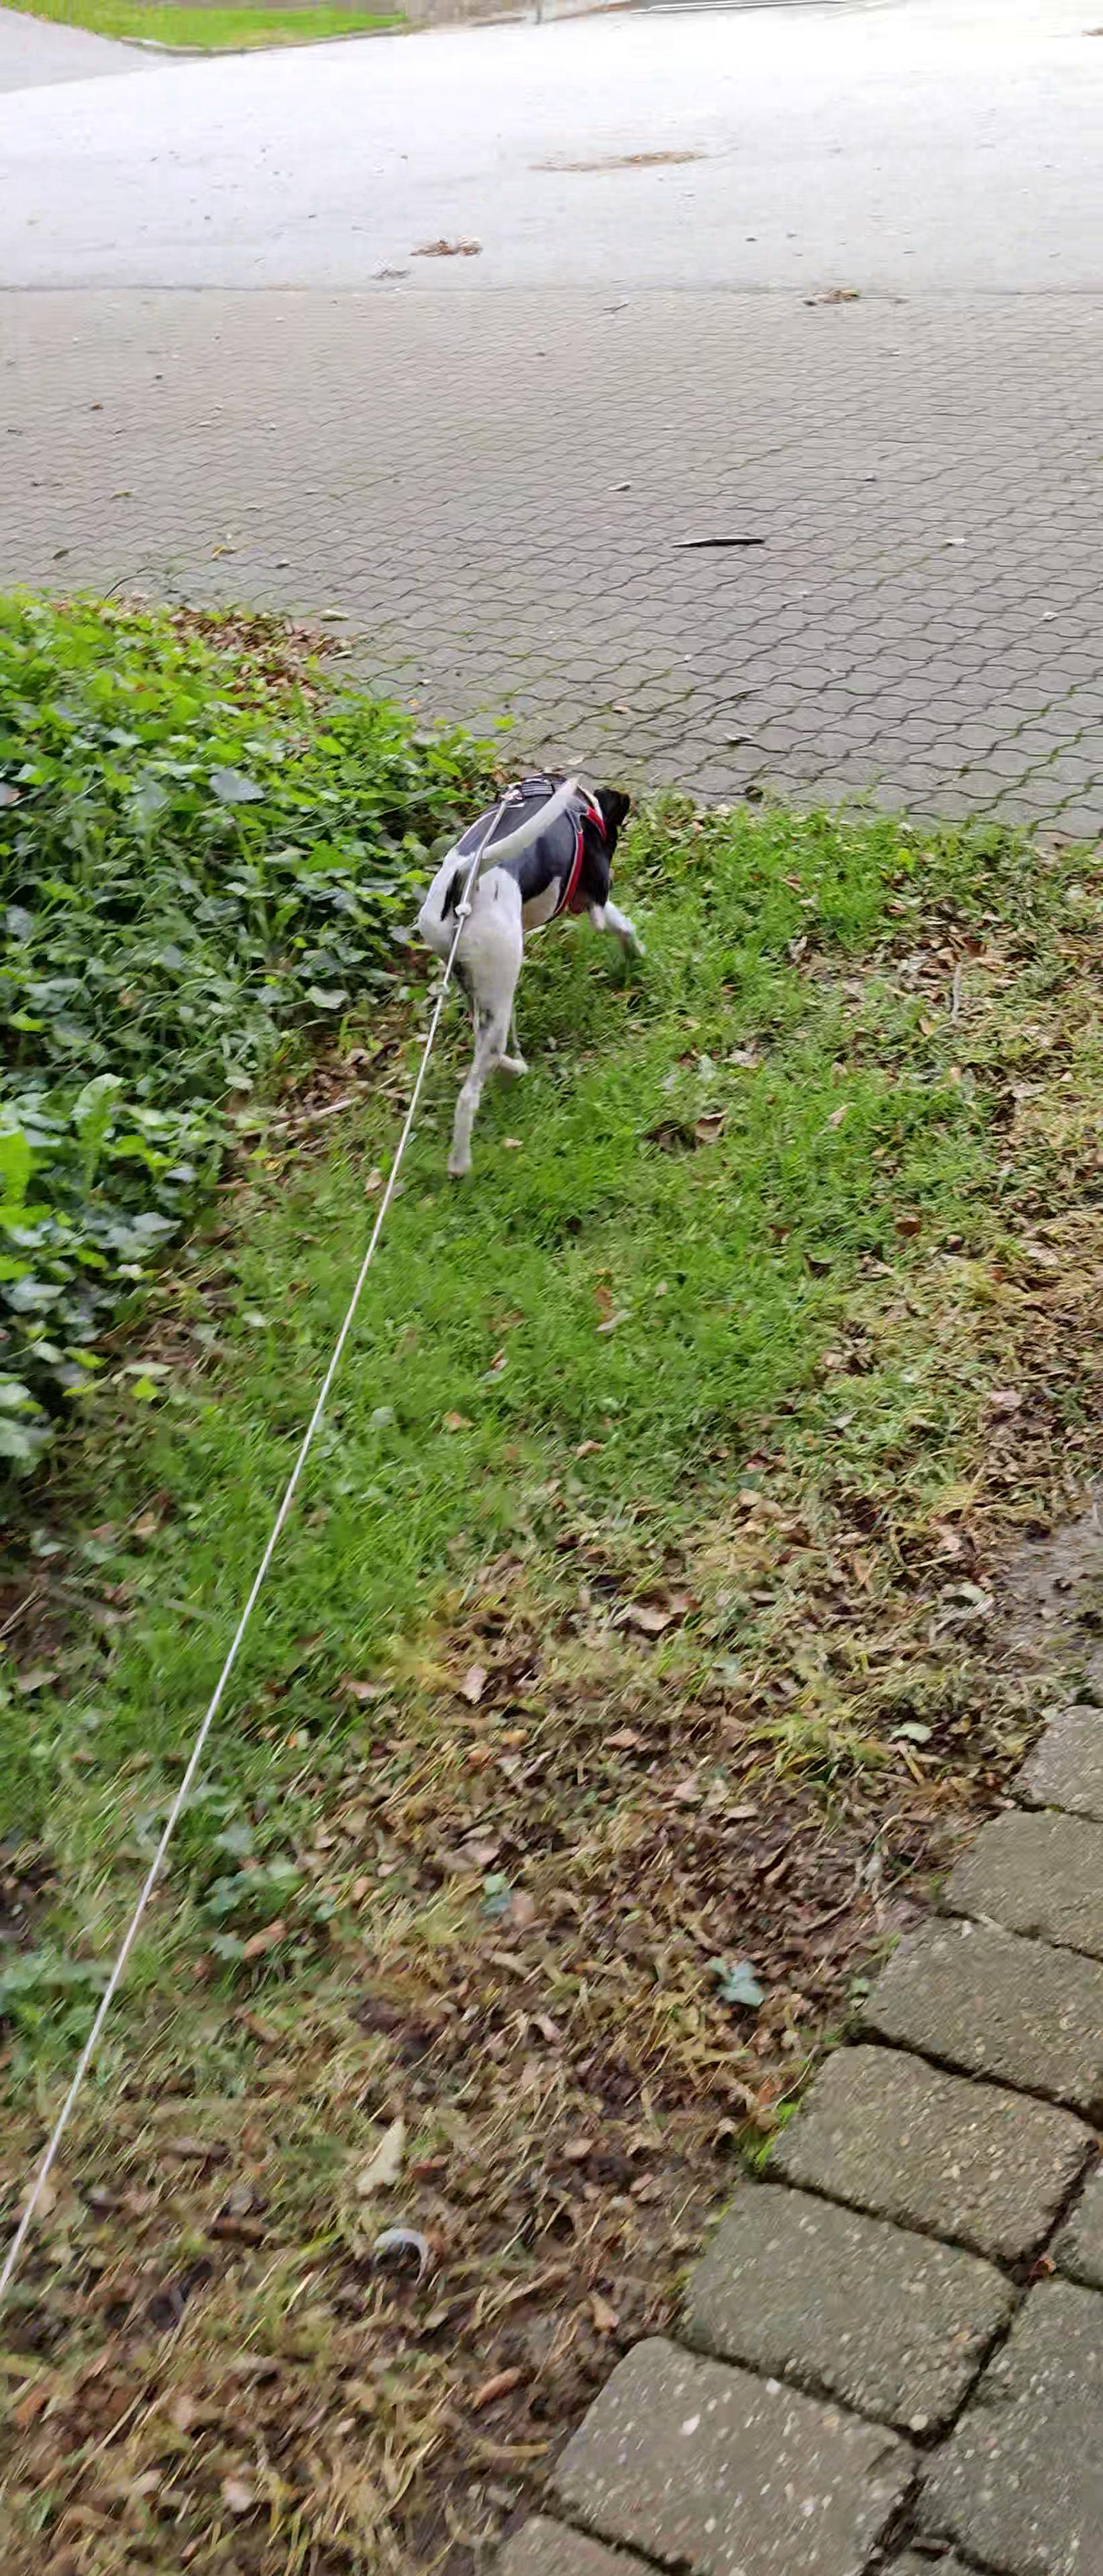Dog: (409, 761, 658, 1181)
